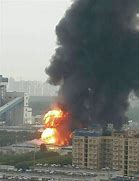smoke: (47, 1, 139, 122)
